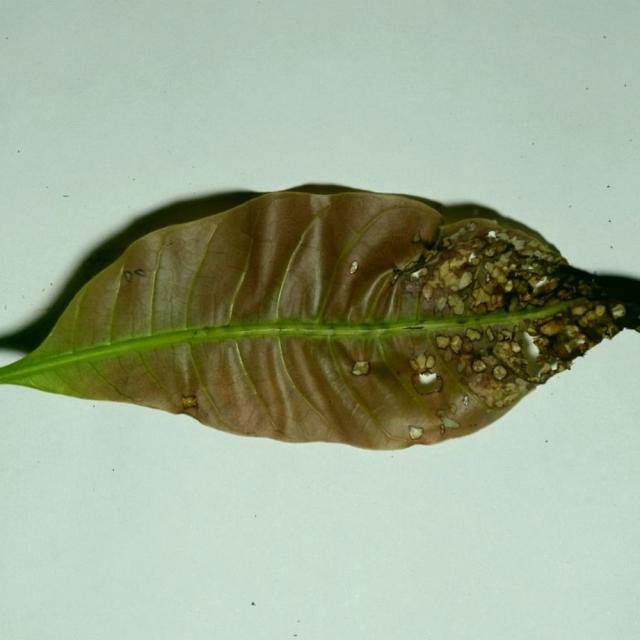Anthracnose: (132, 214, 236, 345), (227, 194, 329, 324), (106, 234, 164, 348), (419, 264, 497, 333), (464, 358, 526, 408), (552, 299, 616, 342), (76, 243, 128, 284), (408, 353, 441, 393), (523, 279, 566, 307), (396, 276, 426, 314), (479, 239, 515, 264), (395, 246, 426, 275), (435, 402, 462, 433), (449, 236, 484, 258), (550, 337, 574, 358), (418, 227, 439, 251), (533, 334, 552, 354), (541, 319, 564, 335), (460, 222, 477, 239), (389, 269, 402, 286), (411, 230, 423, 247), (557, 360, 572, 373)
Mango: (0, 184, 639, 454)
